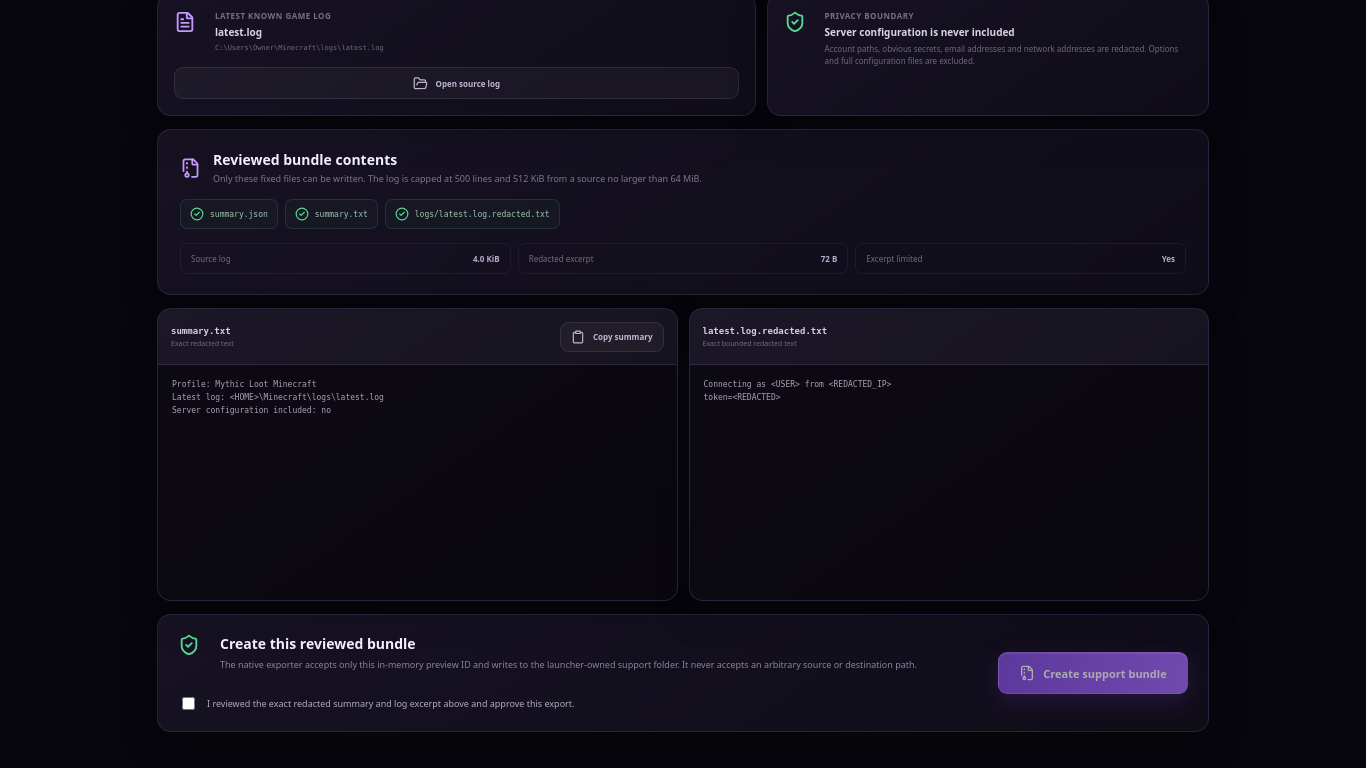
Test: Support workspace › shows exact reviewed text and requires confirmation for the same preview
(page scrolled)
Expected: the text "logs/latest.log.redacted.txt" is shown, [385, 199, 560, 229]
Expected: the text "Server configuration included: no" is shown, [172, 380, 384, 415]
Click the checkbox at (188, 704), box [182, 697, 195, 710]
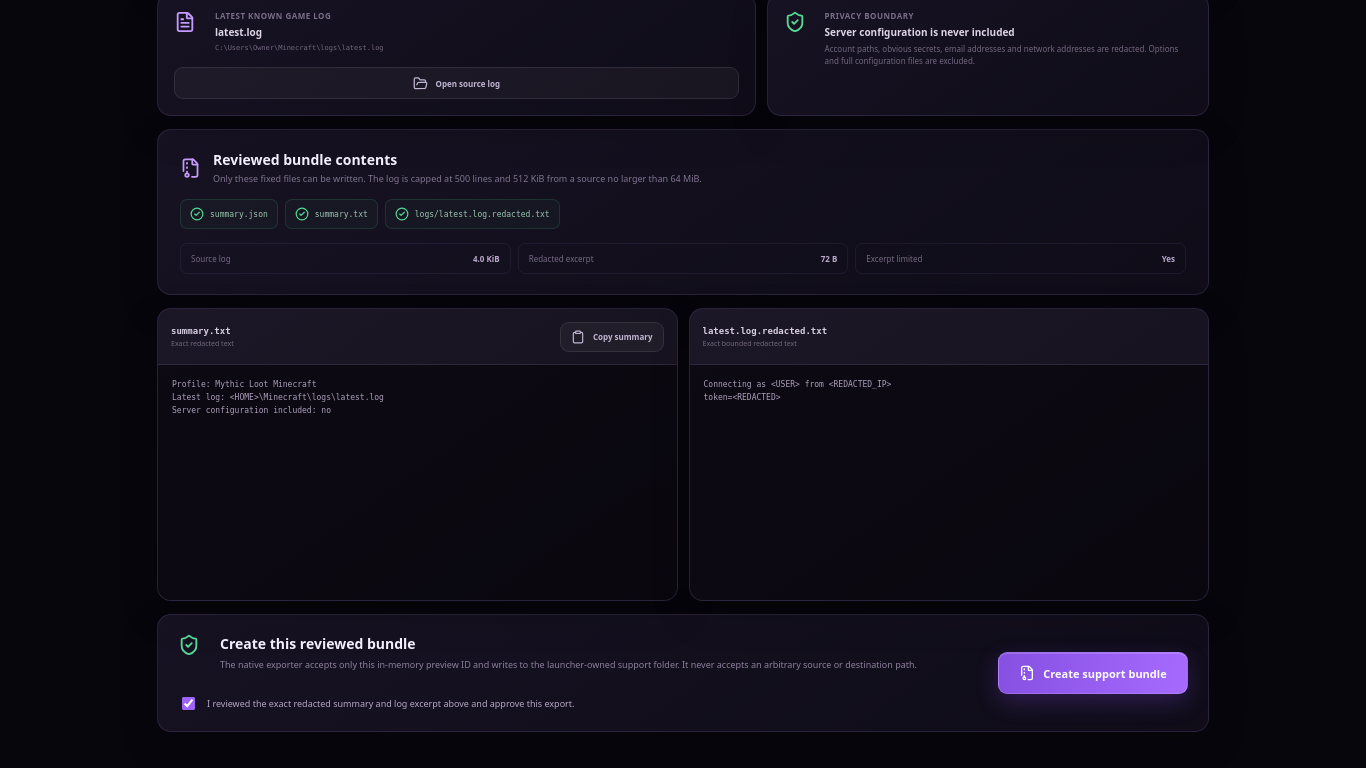
Click the button "Create support bundle" at (1093, 673), box [998, 652, 1188, 694]
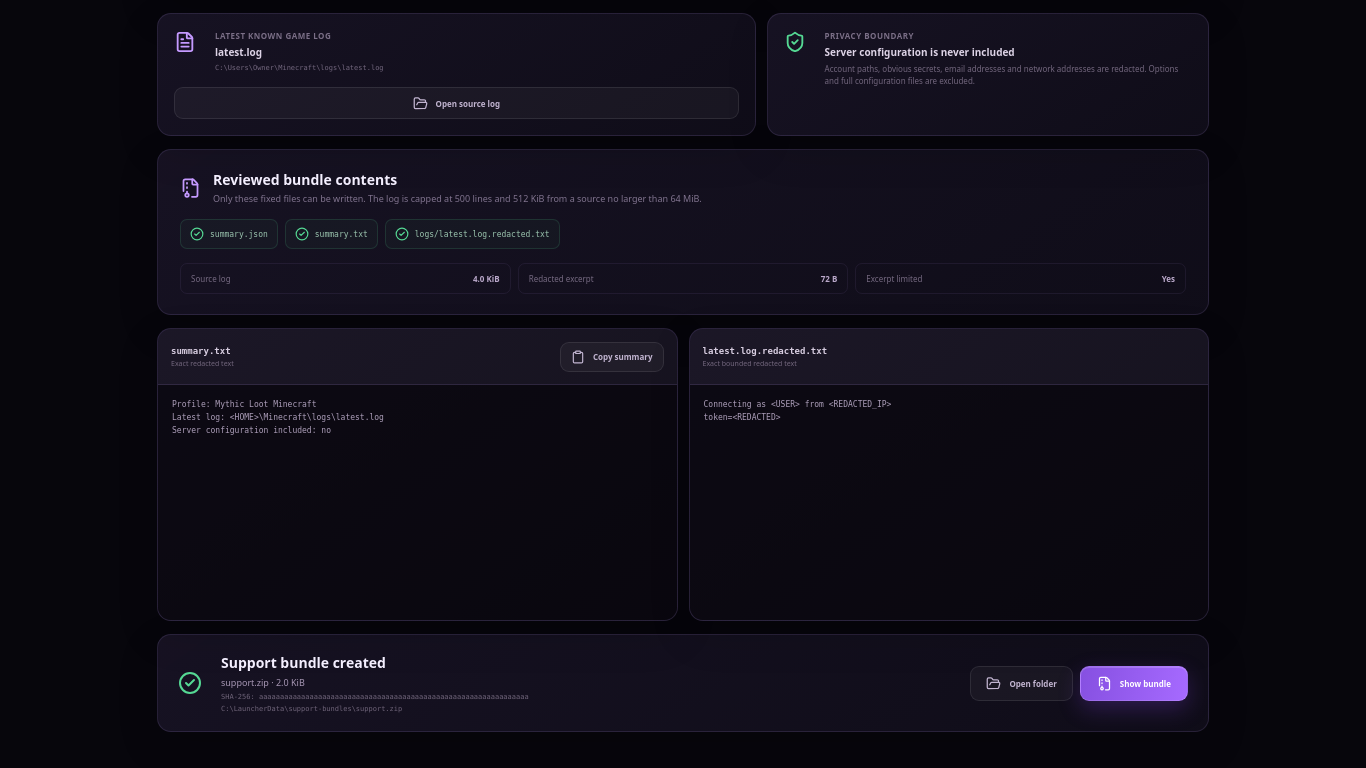
Now the heading "Support bundle created" is shown, box [221, 653, 386, 672]
